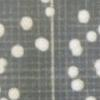white: (70, 78, 86, 93), (35, 35, 49, 52), (77, 8, 90, 25), (20, 16, 34, 31), (11, 44, 25, 58), (67, 64, 80, 79), (8, 87, 21, 100), (86, 29, 97, 44), (68, 38, 80, 51), (70, 46, 84, 57), (93, 58, 100, 78), (45, 6, 55, 18), (0, 22, 6, 40), (84, 94, 98, 100), (0, 57, 8, 67), (0, 66, 7, 75), (40, 0, 52, 4), (96, 24, 100, 36), (0, 95, 9, 100)
